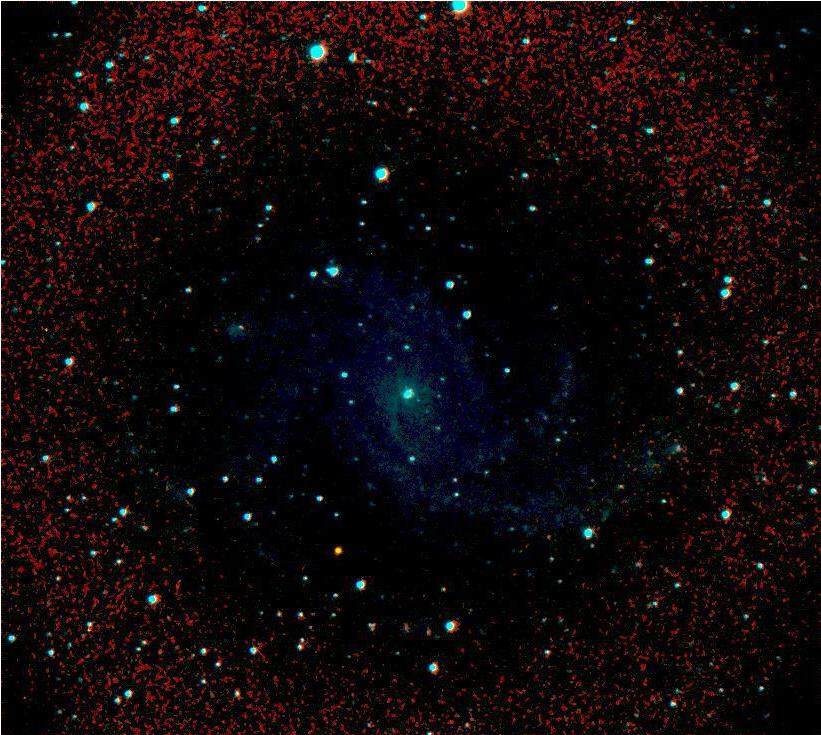star: (323, 534, 353, 564)
